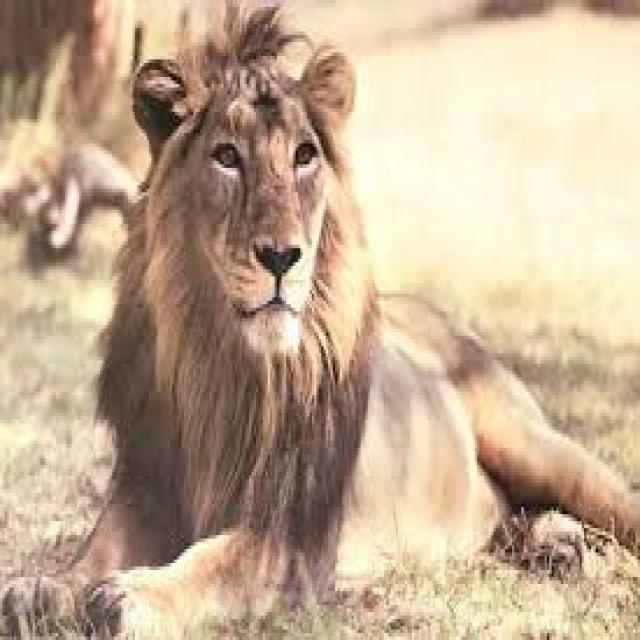Lion: (70, 0, 638, 637)
